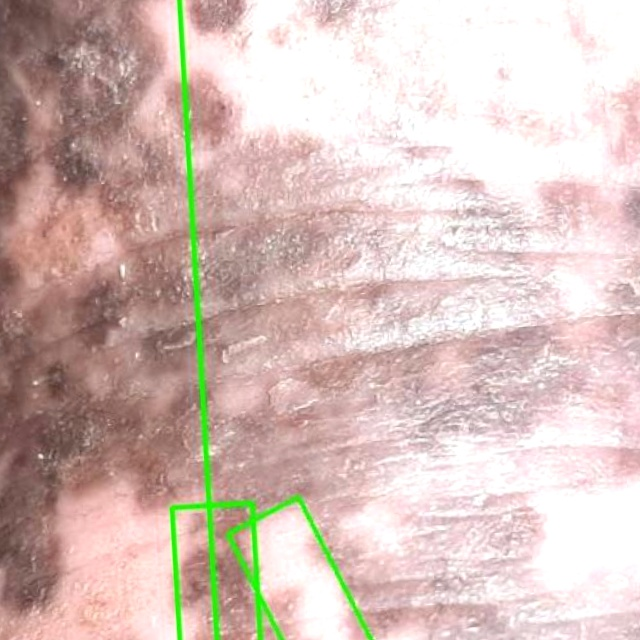Eczema: (0, 0, 216, 639), (228, 496, 372, 639), (171, 503, 260, 639)
